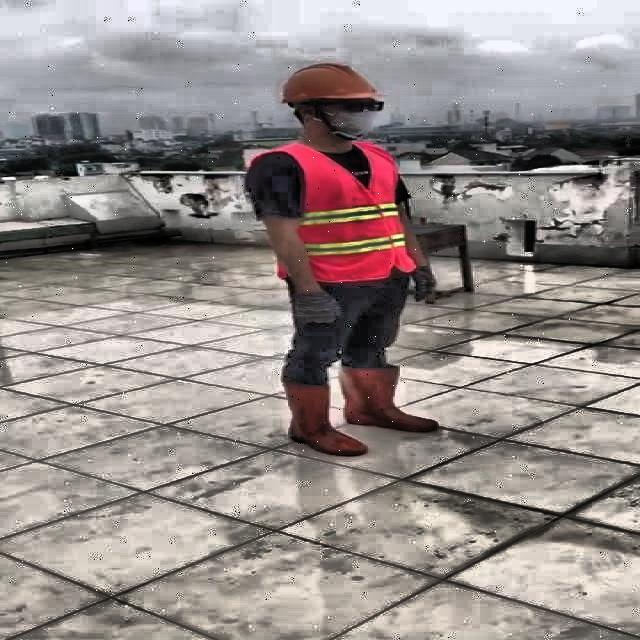safety_helmet: (275, 60, 388, 101)
safety_jacket: (256, 149, 414, 283)
